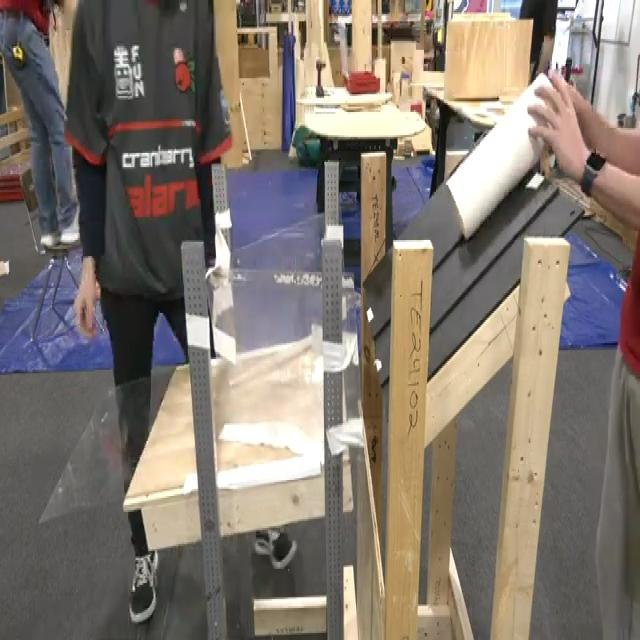Coral: (444, 69, 554, 240)
